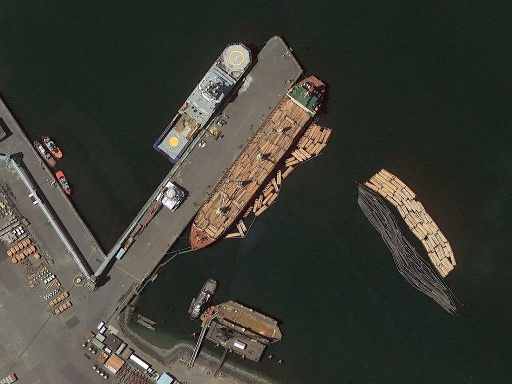ship: (178, 68, 333, 260), (150, 36, 257, 163), (187, 276, 220, 323)
